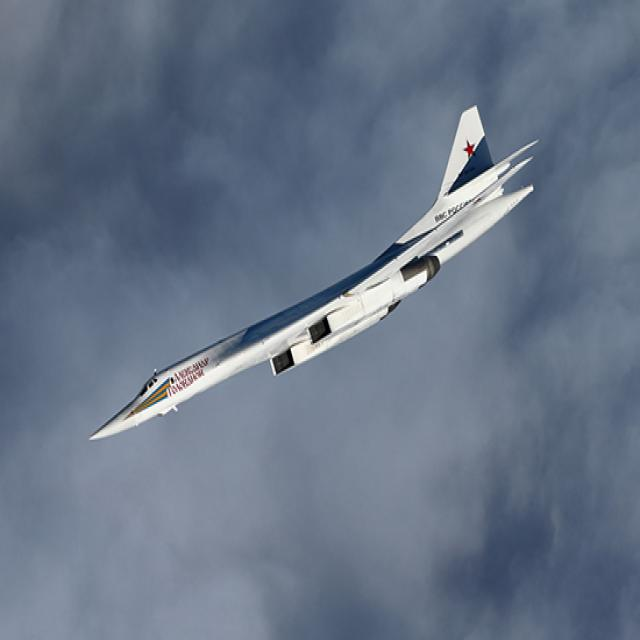MIL_Plane: (87, 105, 540, 441)
